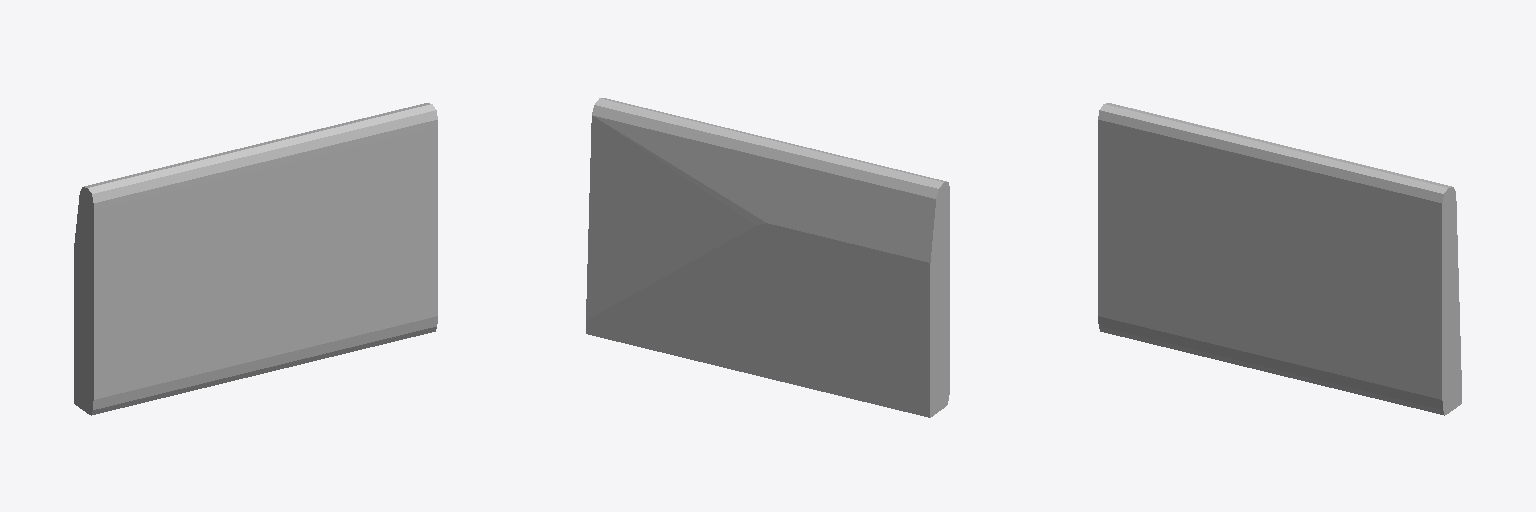
Rendered from ShipScene_collision_7.obj.
3 renders of one model, left to right at view 1: azimuth 30°, elevation 25°; view 2: azimuth 150°, elevation 25°; view 3: azimuth 330°, elevation 25°, orthographic.
Bounding box in the file's own units: 168 × 105 × 16.57.